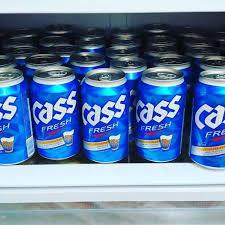beer: (1, 25, 225, 171)
